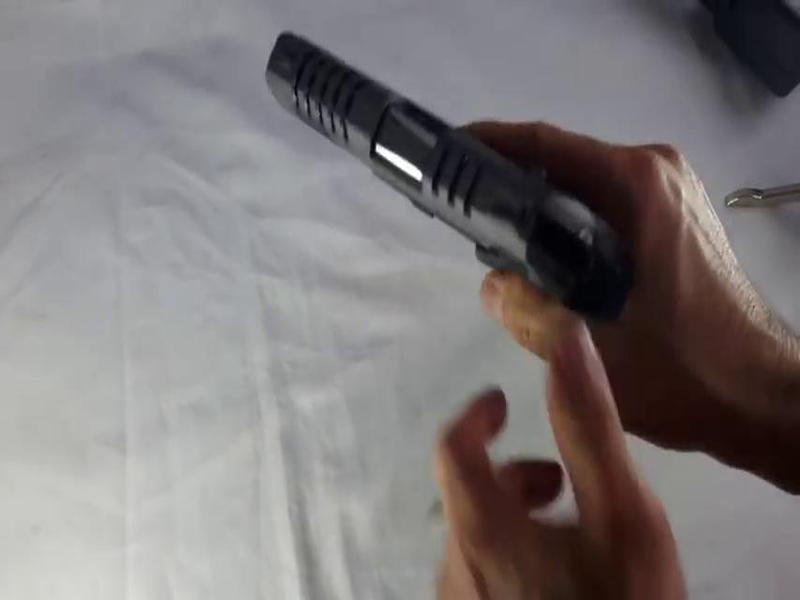Pistola: (153, 17, 699, 365)
